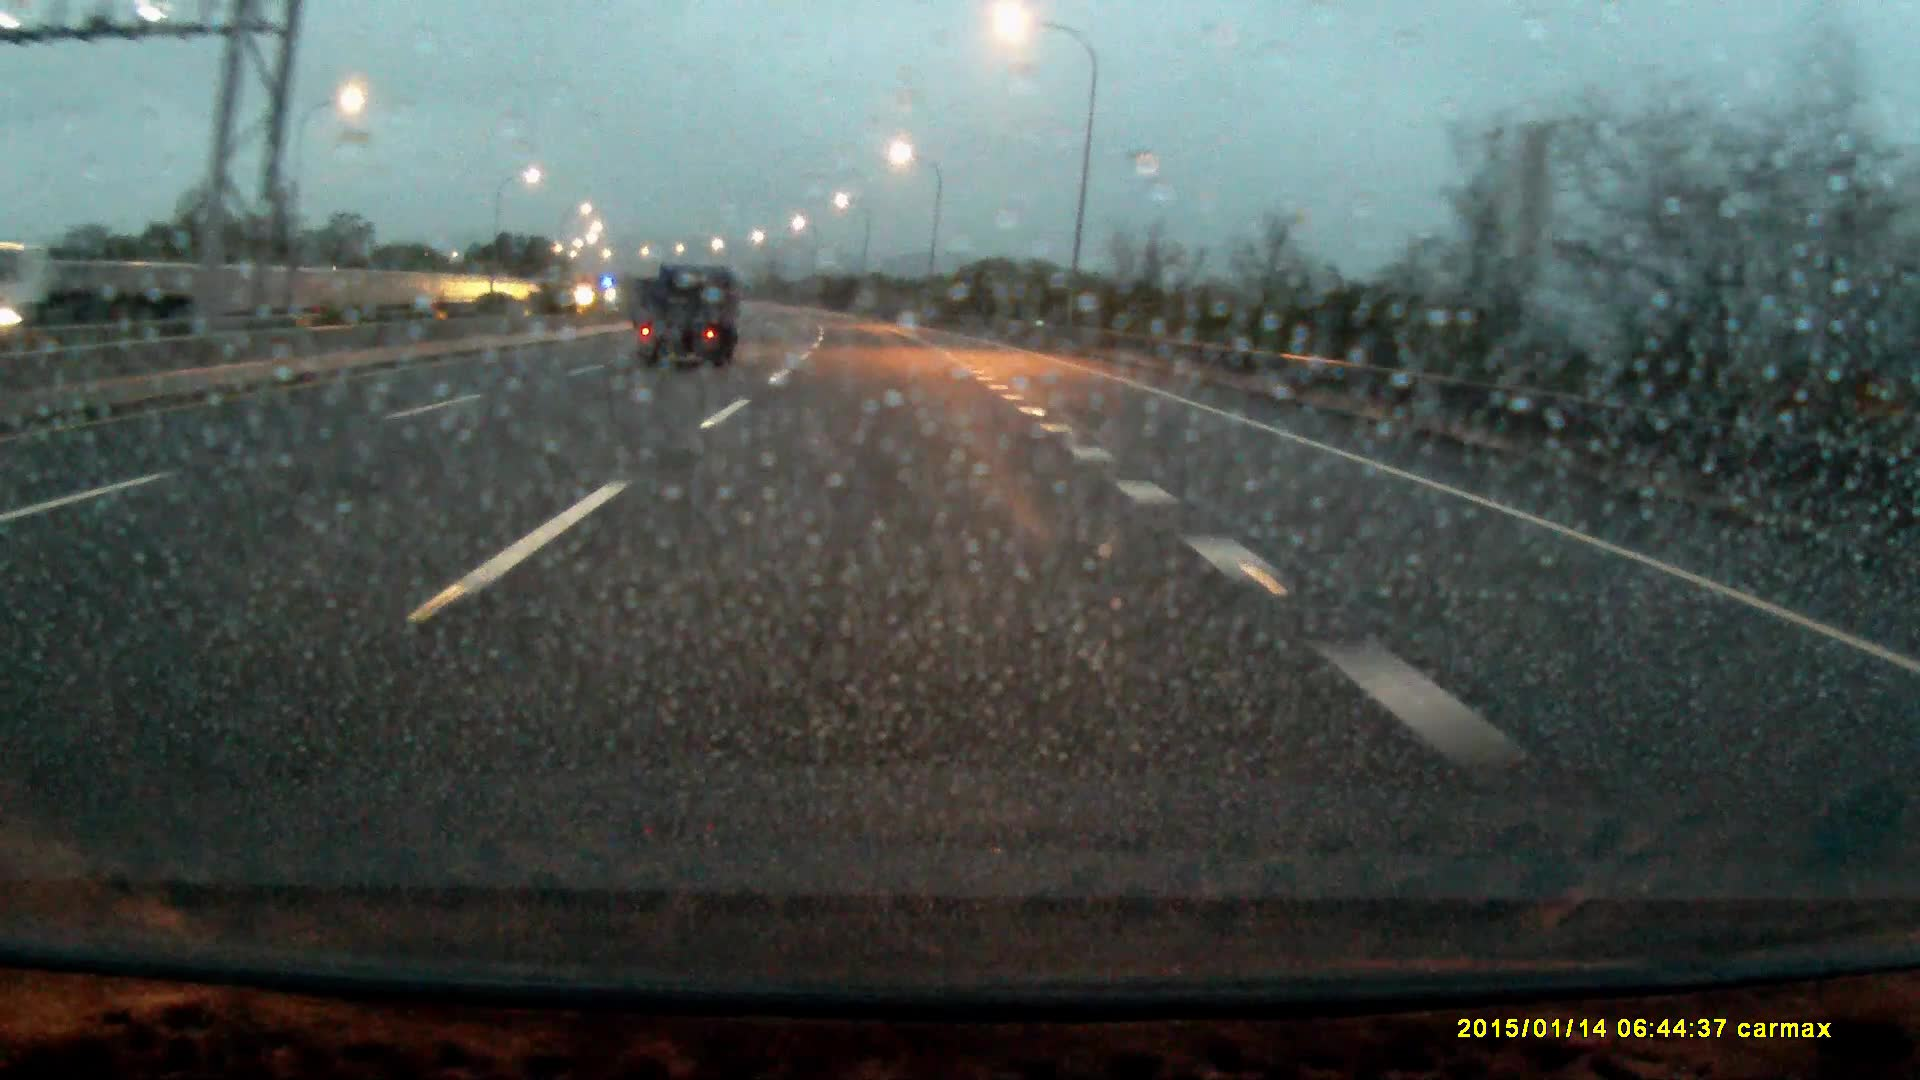vehicle: (11, 257, 218, 324), (636, 260, 742, 371)
